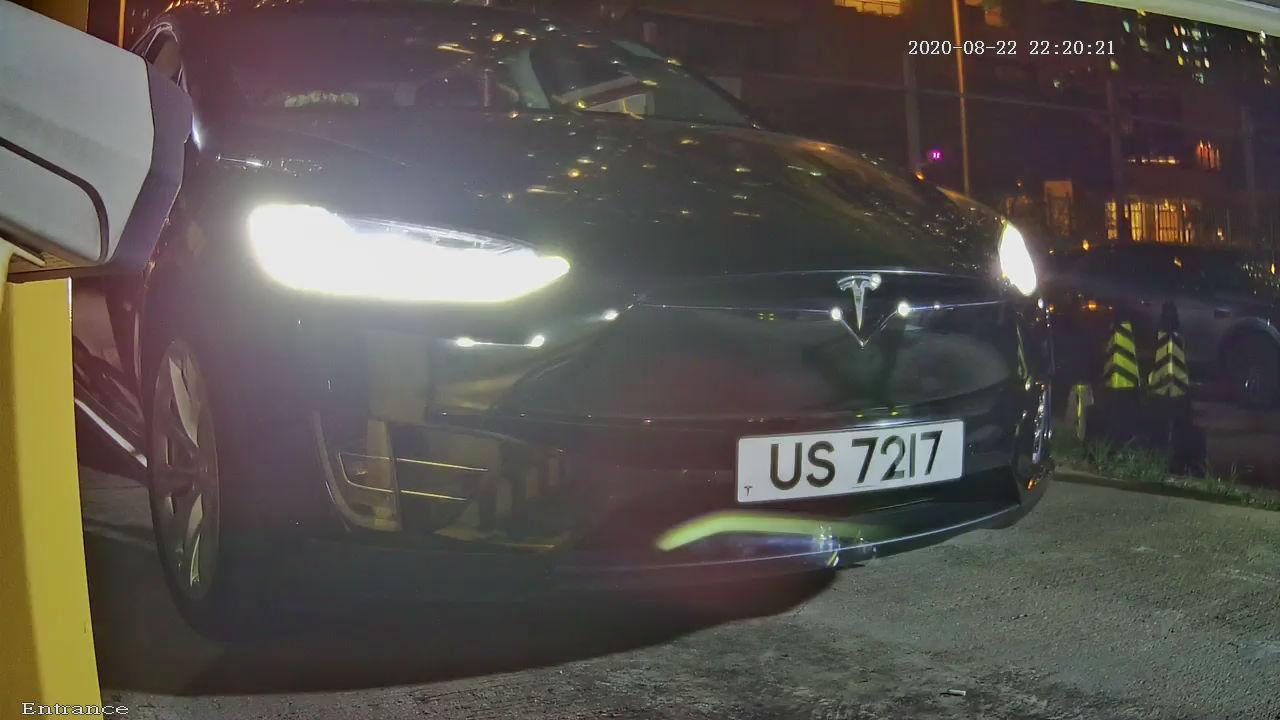Car: (18, 13, 1155, 650)
License Plate: (721, 405, 978, 508)
